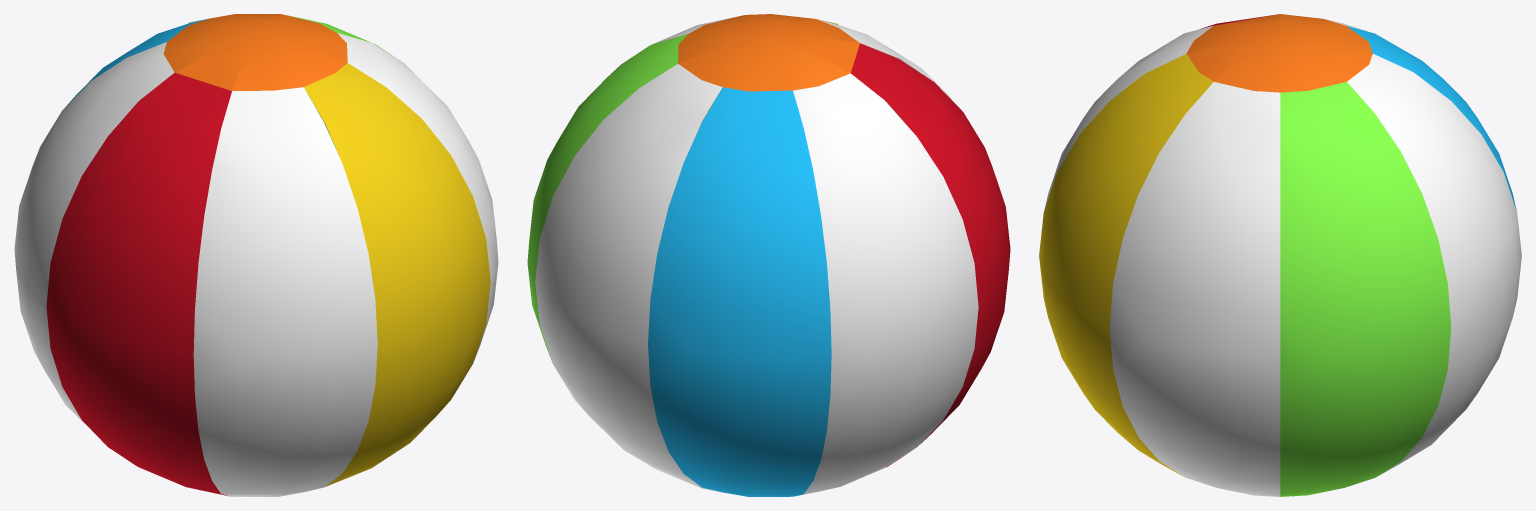
The model's file is white_beachball.glb.
3 renders of one model, left to right at view 1: azimuth 30°, elevation 25°; view 2: azimuth 150°, elevation 25°; view 3: azimuth 270°, elevation 25°, orthographic.
Visible parts, largest first — view 1: White_Beachball; view 2: White_Beachball; view 3: White_Beachball.
Part boxes in pixels (box(x1,y1,x2,y2)): White_Beachball: box(14, 14, 498, 496); White_Beachball: box(527, 14, 1010, 496); White_Beachball: box(1039, 14, 1521, 496).
Bounding box in the file's own units: 0.7785 × 0.7785 × 0.7785.
Materials: 1 (1 with a texture image).
